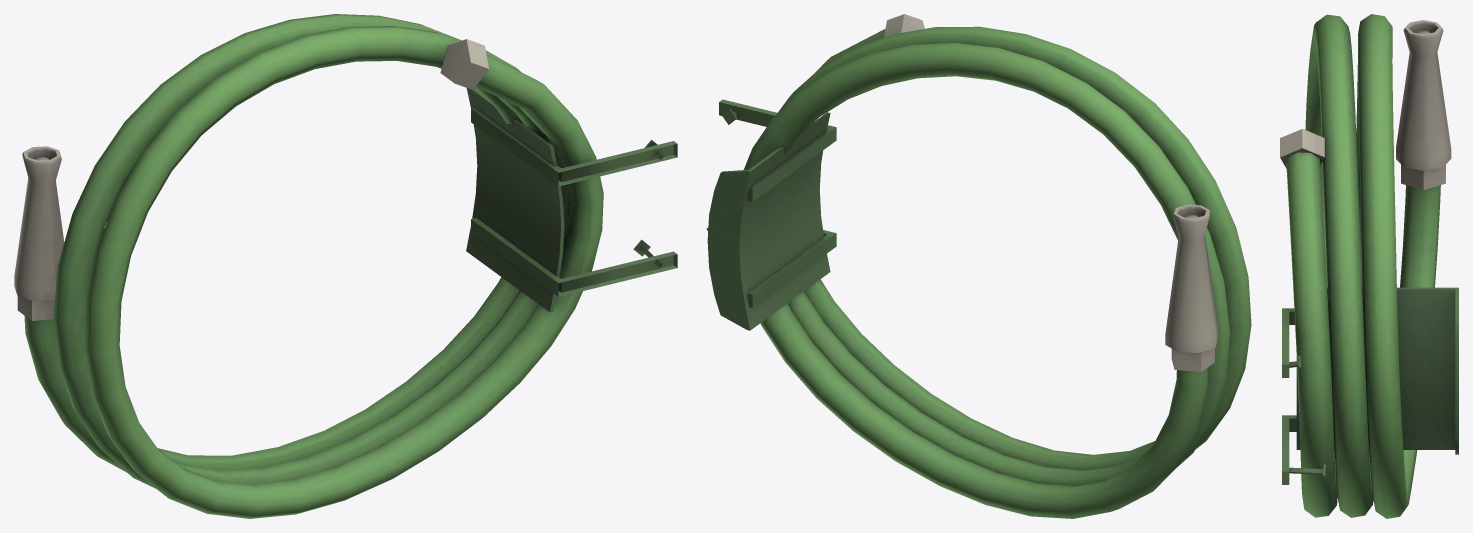
Rendered from props_2fort_hose001.glb.
3 views of the same model, side by side, from view 1: azimuth 30°, elevation 25°; view 2: azimuth 150°, elevation 25°; view 3: azimuth 270°, elevation 25° (orthographic). The views are drawn at different scales.
Visible parts, largest first — view 1: models/props_2fort/hose001; view 2: models/props_2fort/hose001; view 3: models/props_2fort/hose001.
Boxes of the visible parts, x1,y1,x2,y2 form: models/props_2fort/hose001: [14, 14, 677, 518]; models/props_2fort/hose001: [706, 14, 1251, 518]; models/props_2fort/hose001: [1280, 14, 1458, 518].
Bounding box in the file's own units: 55.59 × 42.16 × 15.15.
Materials: 1 (1 with a texture image).
